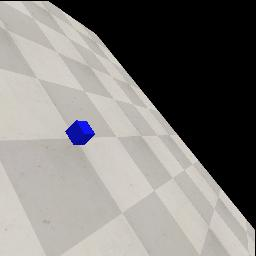box: (65, 120, 95, 145)
